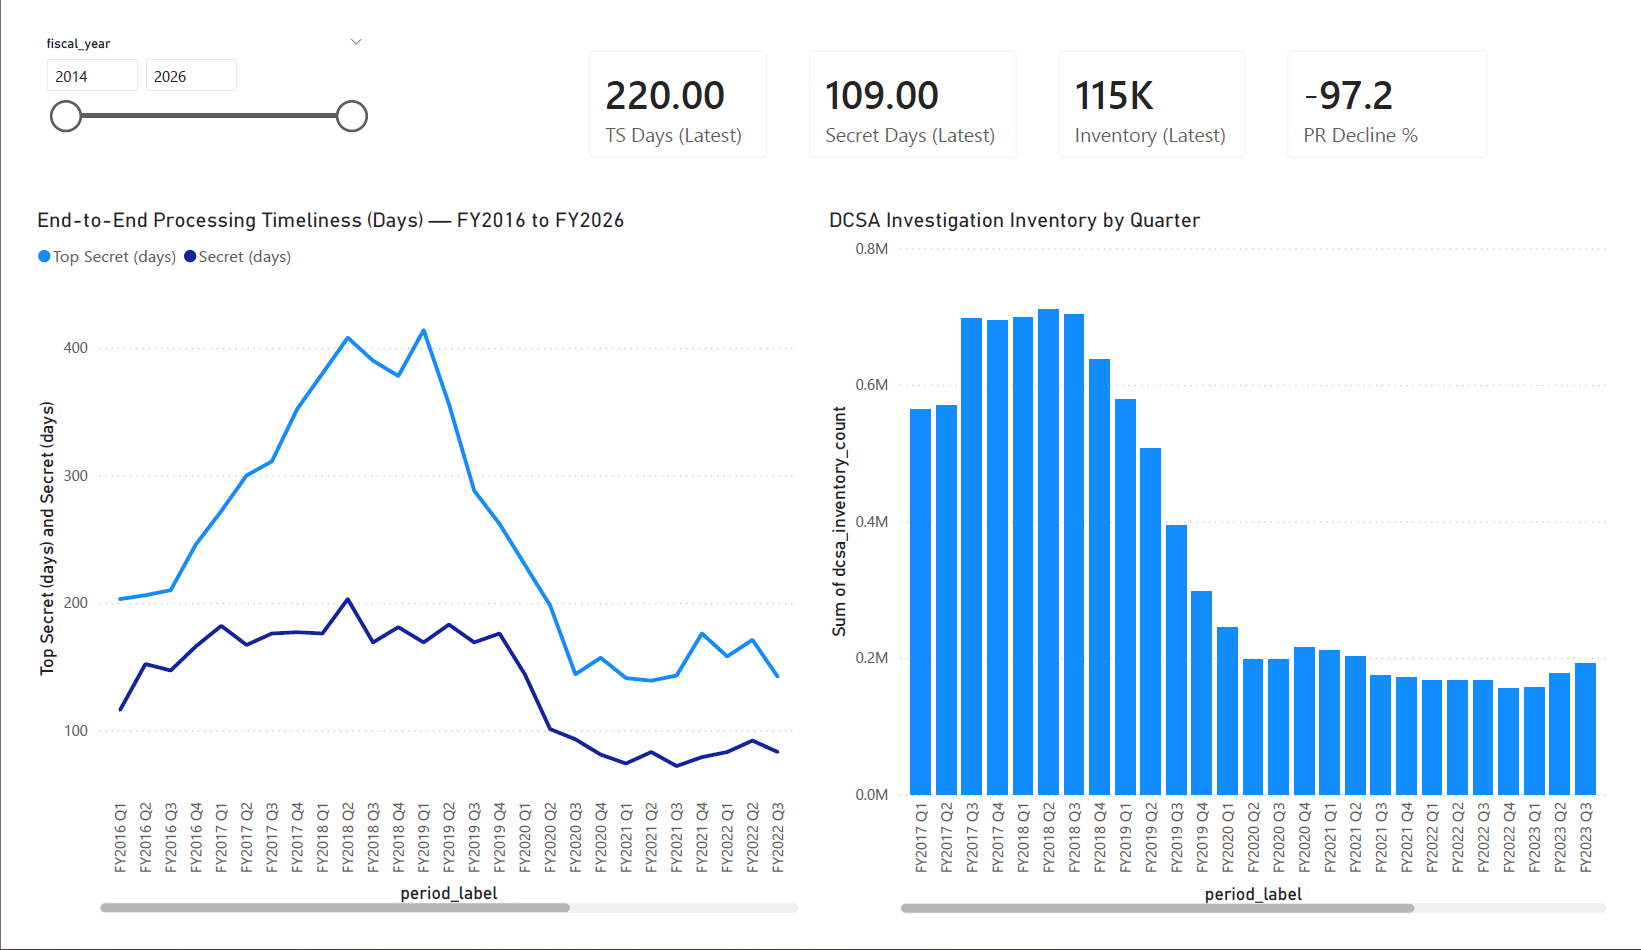

What the dashboard file says about the page in this screenshot:
{"tool":"powerbi","page":{"name":"Executive Overview","canvas":[1280,720],"ordinal":0},"visuals":[{"type":"cardVisual","fields":{"Data":["fact_qpr_indicators.TS Days (Latest)"]},"box":[434.6,0,178,121.1],"z":0},{"type":"cardVisual","fields":{"Data":["fact_qpr_indicators.Inventory (Latest)"]},"box":[815.4,0,184.2,121.1],"z":1000},{"type":"cardVisual","fields":{"Data":["fact_qpr_indicators.Secret Days (Latest)"]},"box":[612.6,0,202.8,121.1],"z":2000},{"type":"cardVisual","fields":{"Data":["fact_qpr_indicators.PR Decline %"]},"box":[999.6,0,196.6,121.1],"z":3000},{"type":"lineChart","title":"End-to-End Processing Timeliness (Days) — FY2016 to FY2026","fields":{"Category":["dim_period.period_label"],"Y":["Sum(fact_qpr_indicators.end_to_end_days_ts)","Sum(fact_qpr_indicators.end_to_end_days_secret)"]},"box":[0,143.8,626,576.4],"z":4000},{"type":"lineClusteredColumnComboChart","title":"DCSA Investigation Inventory by Quarter","fields":{"Category":["dim_period.period_label"],"Y":["Sum(fact_qpr_indicators.dcsa_inventory_count)"]},"box":[640.5,143.8,639.5,576.4],"z":5000},{"type":"slicer","fields":{"Values":["dim_period.fiscal_year"]},"box":[0,0,281.5,109.7],"z":6000}]}

Visuals, with their boxes in screenshot pixels (x1, y1, x2, y2), scaled from the page's 1280x720 canvas onto the 1641x950 screenshot:
cardVisual - fact_qpr_indicators.TS Days (Latest): bbox(557, 0, 785, 160)
cardVisual - fact_qpr_indicators.Inventory (Latest): bbox(1045, 0, 1282, 160)
cardVisual - fact_qpr_indicators.Secret Days (Latest): bbox(785, 0, 1045, 160)
cardVisual - fact_qpr_indicators.PR Decline %: bbox(1282, 0, 1534, 160)
"End-to-End Processing Timeliness (Days) — FY2016 to FY2026" lineChart: bbox(0, 190, 803, 949)
"DCSA Investigation Inventory by Quarter" lineClusteredColumnComboChart: bbox(821, 190, 1640, 949)
slicer - dim_period.fiscal_year: bbox(0, 0, 361, 145)
